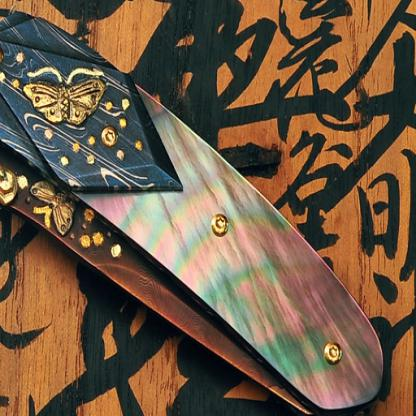knife: (0, 9, 386, 415)
